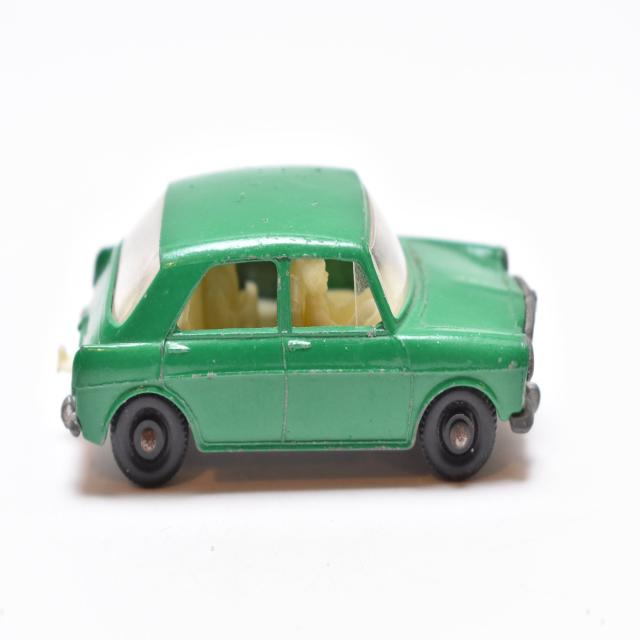Car: (57, 164, 541, 488)
